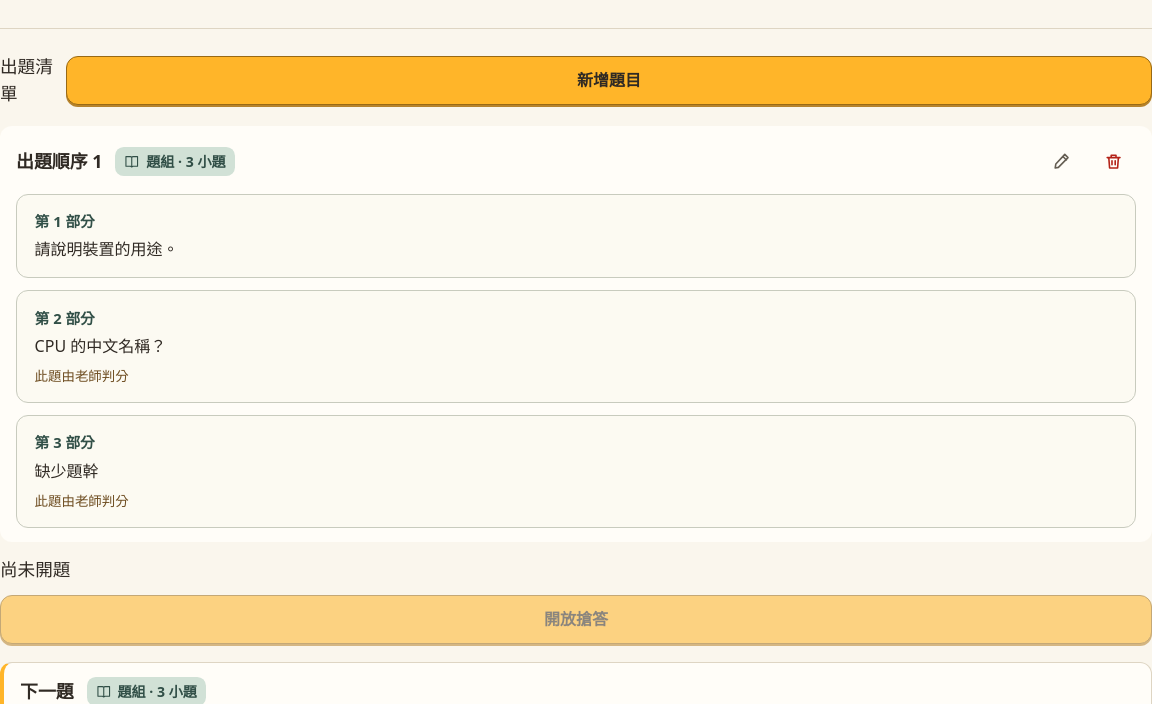
題組使用一個 AI 視窗，只補有題幹的空白小題，原答案完整保留
Click the button named "編修題目" at [1062, 162], box [1040, 140, 1084, 184]
(page scrolled)
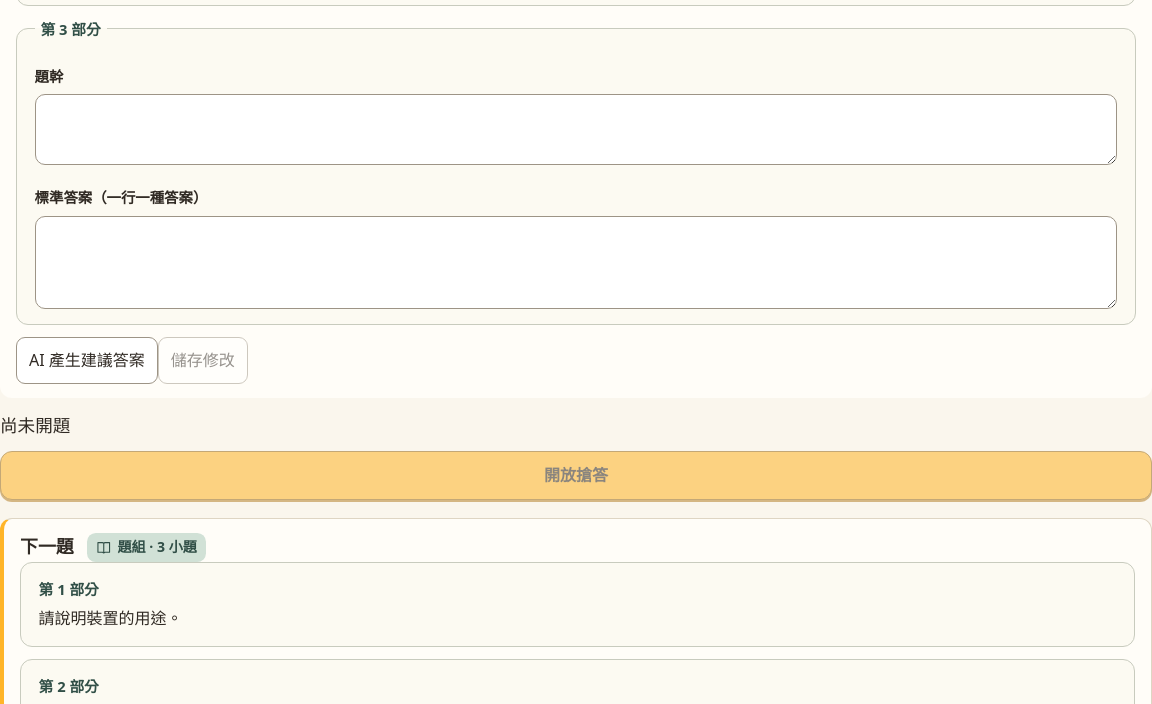
Click the button "AI 產生建議答案" at [87, 360], box [16, 337, 158, 384]
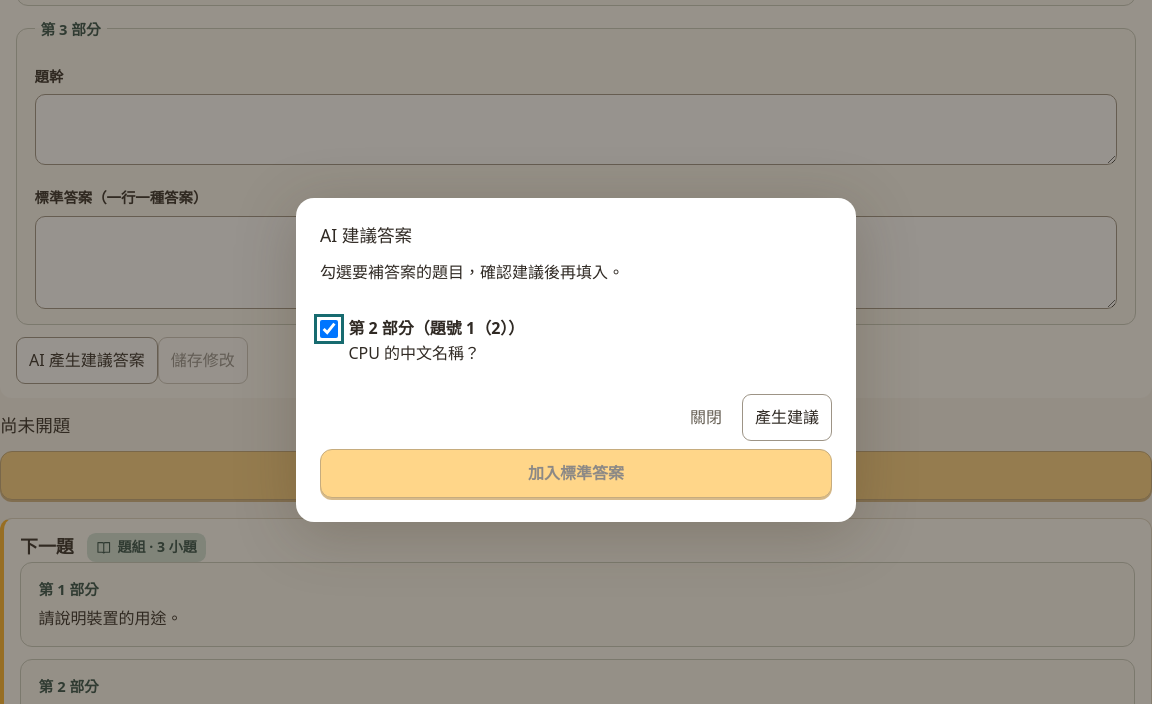
Now the number of checkboxes is 1, box [320, 320, 338, 338]
Click the button "產生建議" at [787, 417], box [742, 394, 832, 441]
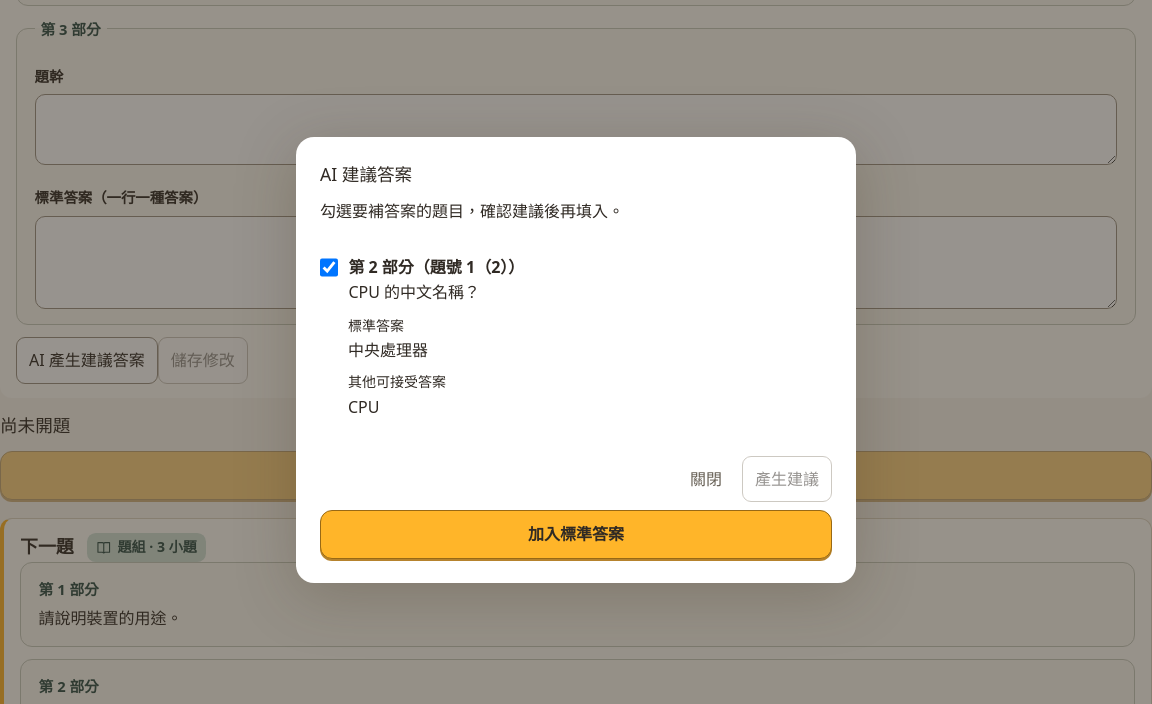
Click the button "加入標準答案" at [576, 535], box [320, 510, 832, 559]
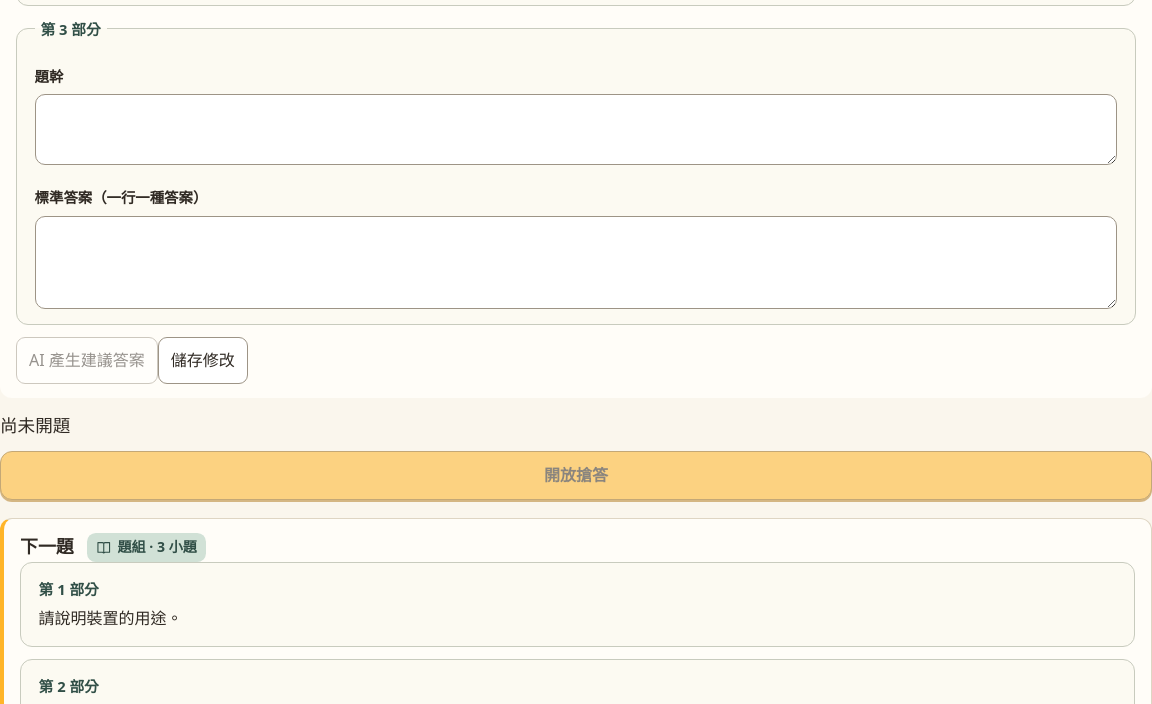
Now the button "AI 產生建議答案" is disabled, box [16, 337, 158, 384]
